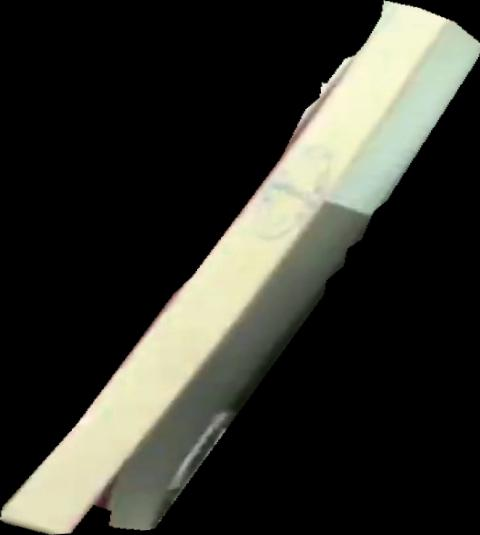backward: (1, 1, 480, 535)
